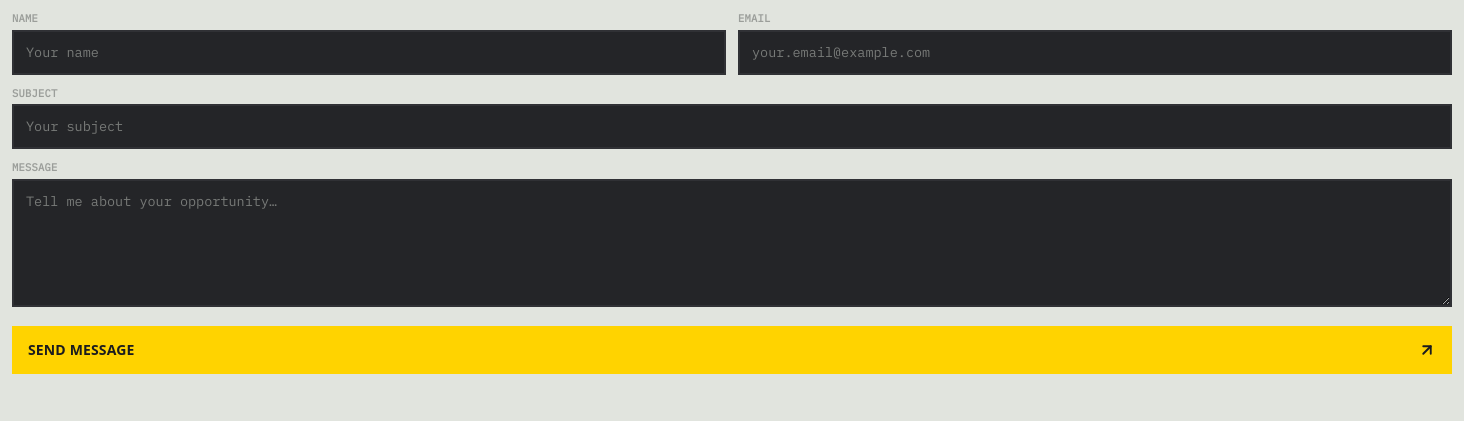
ContactForm › posts the message to the Lambda URL and shows success
The width and height of the screenshot is (1464, 421).
Type "Ada" into the field with placeholder "Your name" at (369, 52), box top-left (12, 30), bottom-right (726, 74)
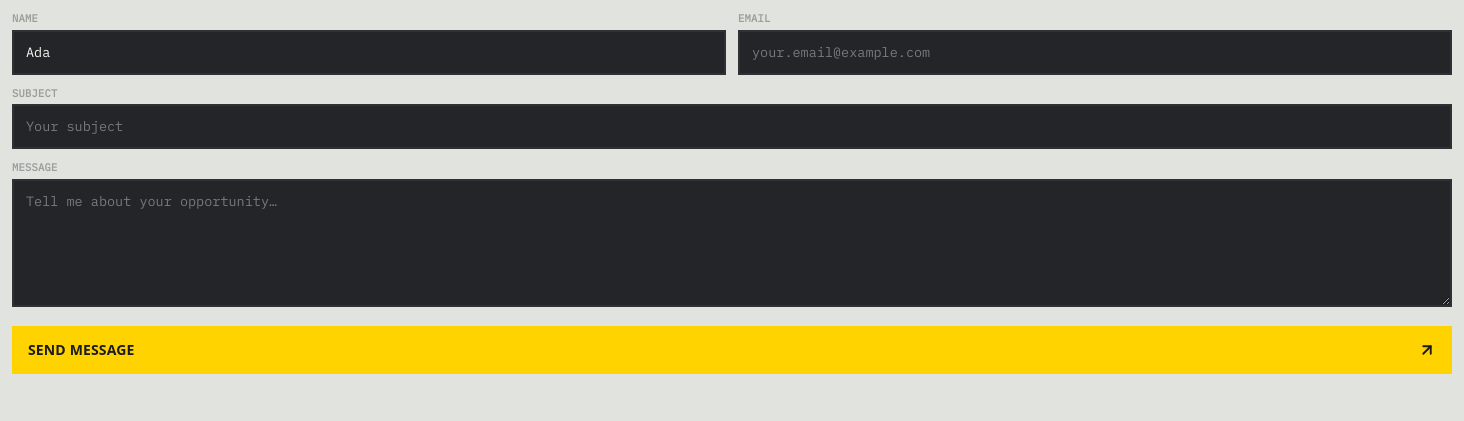
Type "ada@example.com" into the field with placeholder "your.email@example.com" at (1095, 52), box top-left (738, 30), bottom-right (1452, 74)
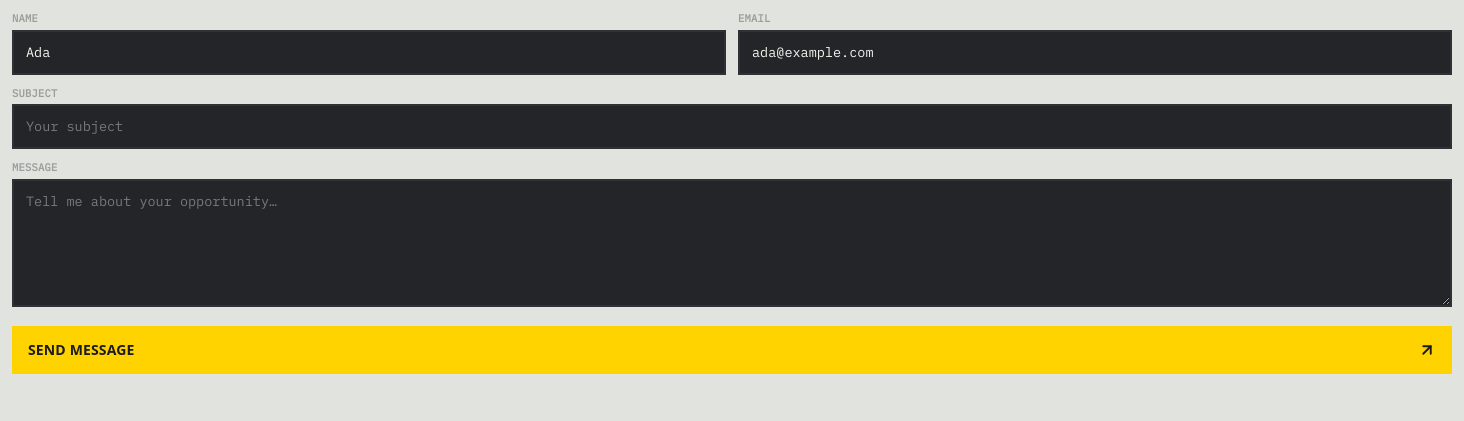
Type "Hi" into the field with placeholder "Your subject" at (732, 127), box top-left (12, 104), bottom-right (1452, 149)
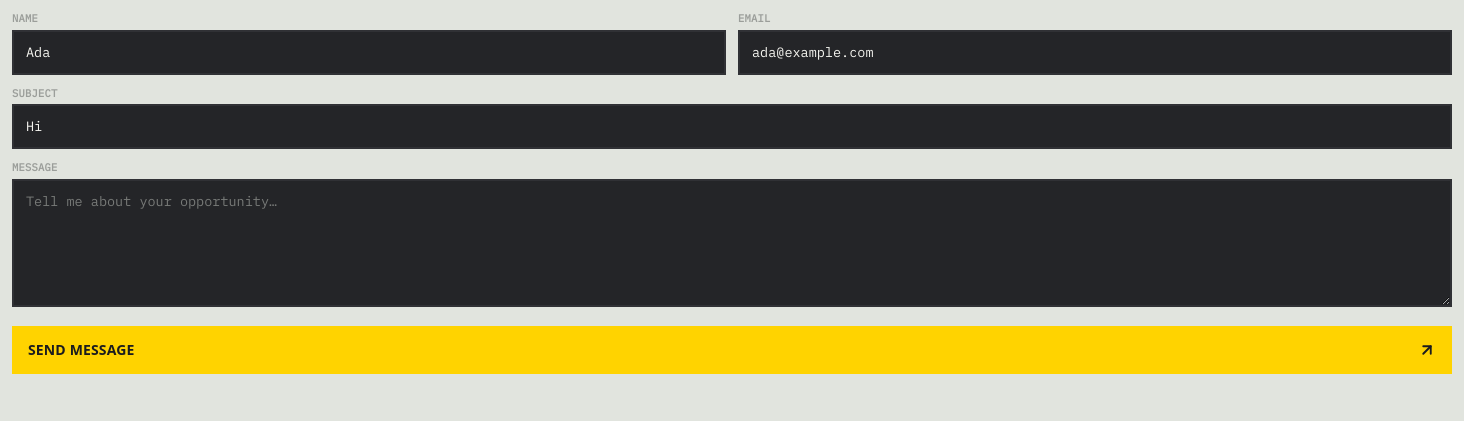
Type "Hello there" into the text box with placeholder "Tell me about your opportunity…" at (732, 243), box top-left (12, 179), bottom-right (1452, 307)
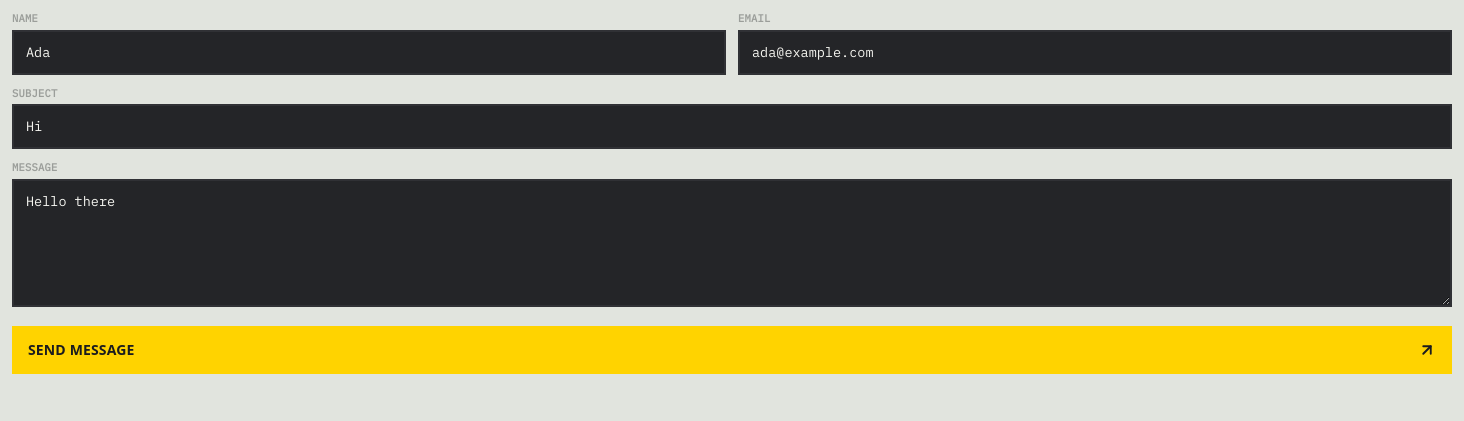
Click the button "Send message" at (81, 350), box top-left (12, 326), bottom-right (1452, 374)
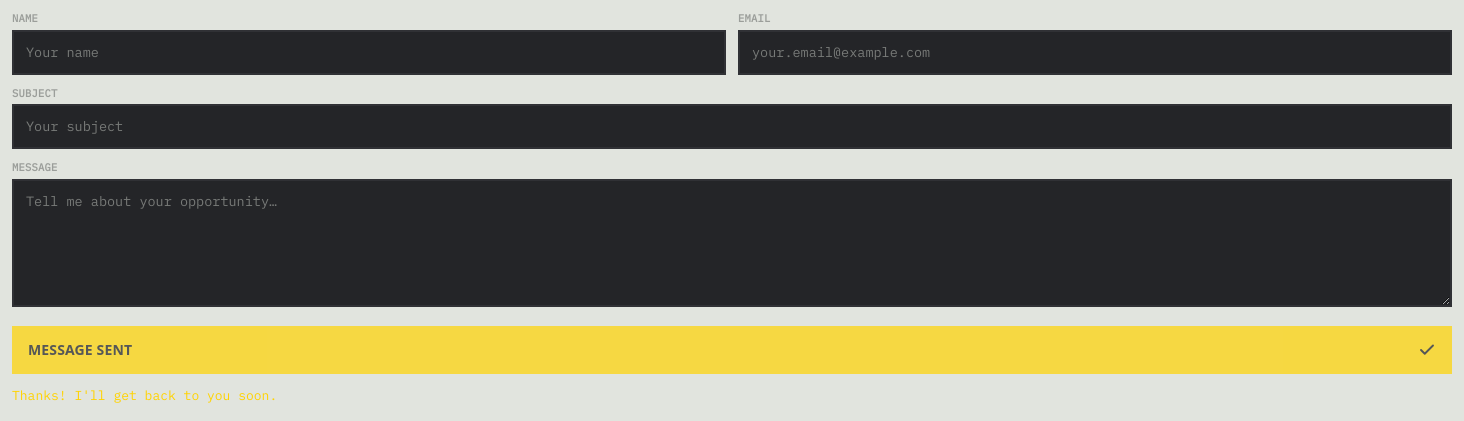
expect the text "Thanks! I'll get back to you soon." is shown: met, box top-left (12, 387), bottom-right (277, 404)
